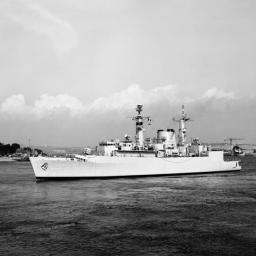Fragata: (28, 96, 244, 185)
